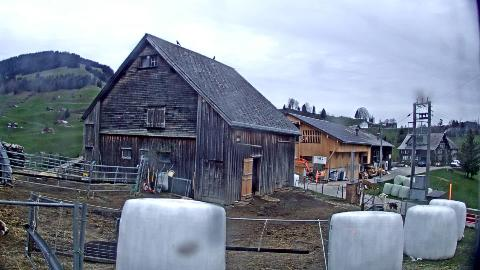car: (451, 161, 460, 167), (418, 161, 426, 167)
sheep: (84, 240, 118, 260), (379, 192, 399, 212), (38, 166, 66, 180), (0, 220, 10, 238)
